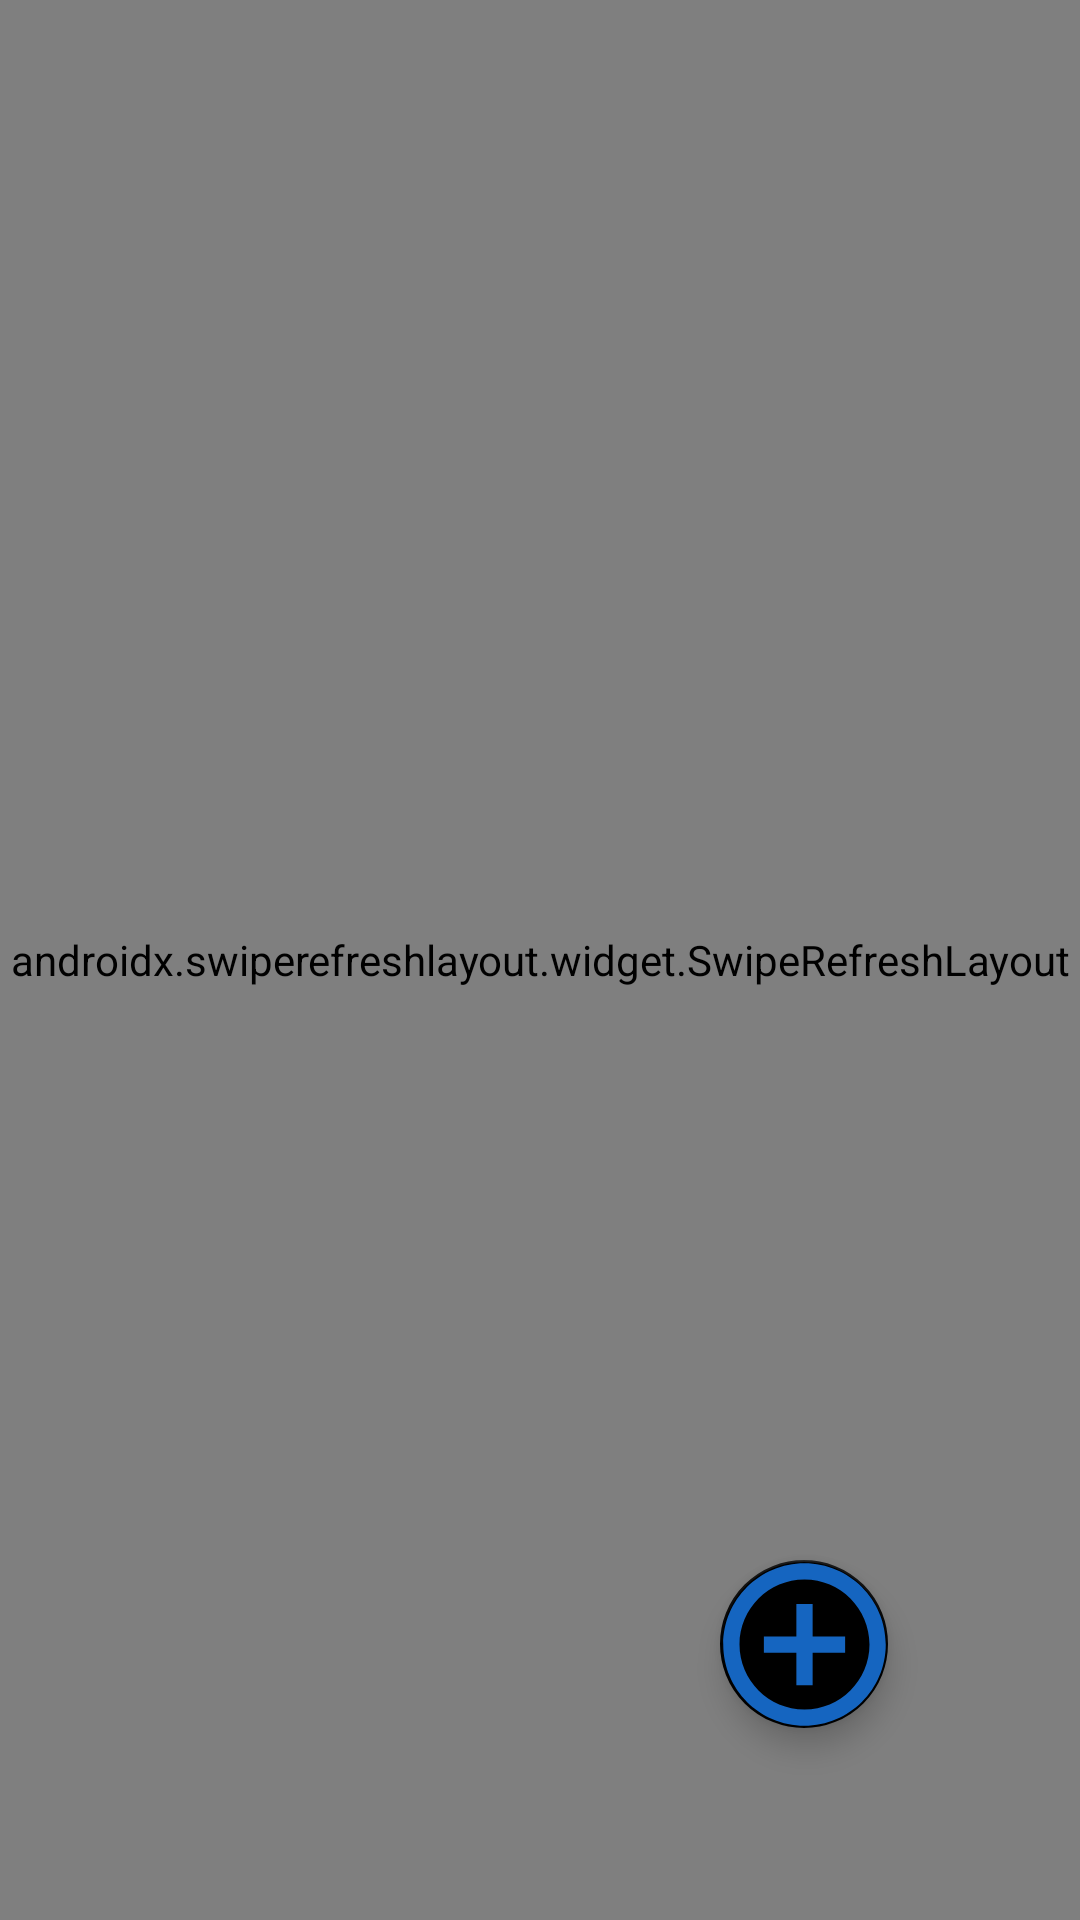

Named icons in this screenshot (1080 x 1920) and their bounding boxes, [x1,y1,x2,y2]:
add circle: [720,1560,888,1728]
